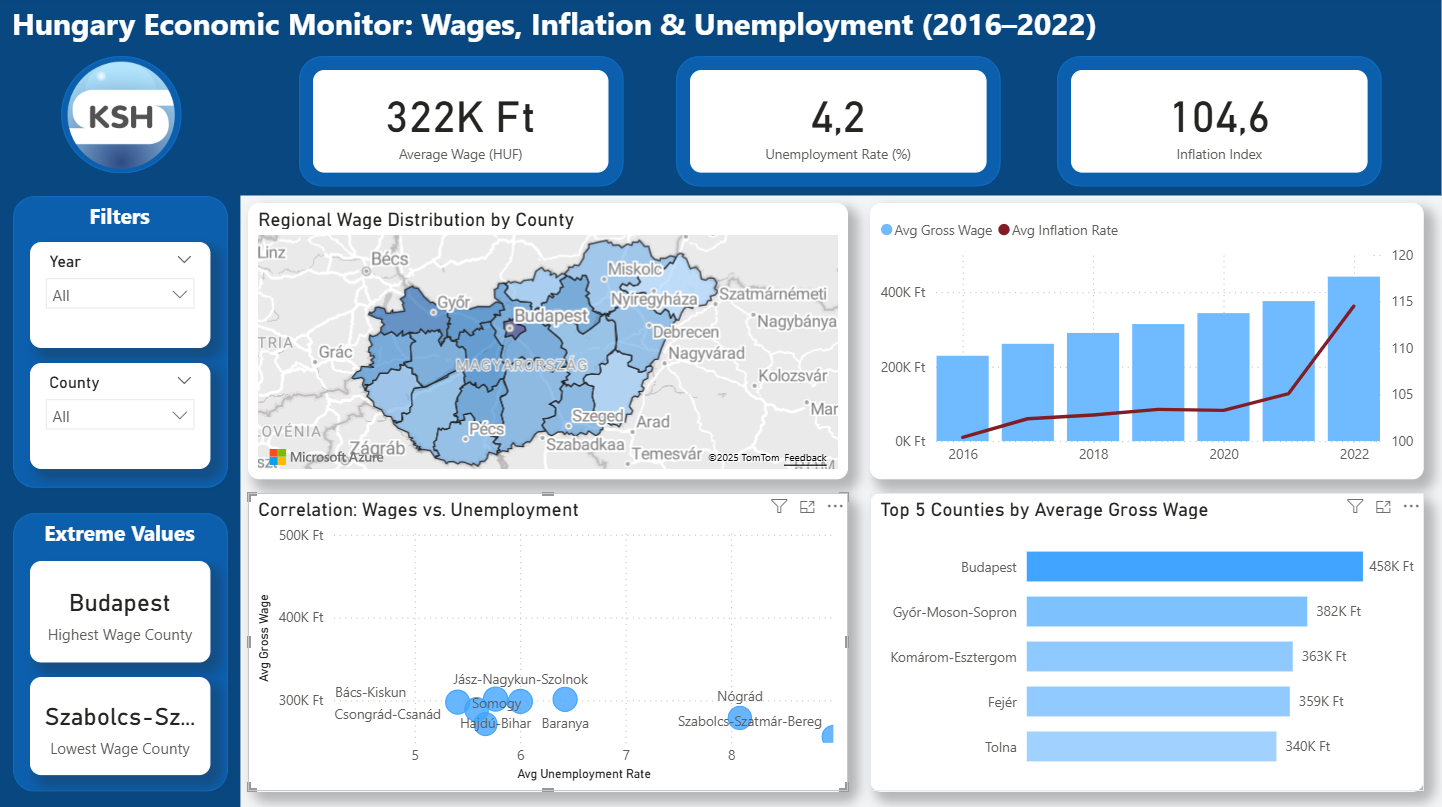

This screenshot's page, from the dashboard's own definition file:
{"tool":"powerbi","page":{"name":"Economic Monitor","canvas":[1280,720],"ordinal":0},"visuals":[{"type":"shape","box":[0,148.8,215,570.9],"z":0},{"type":"shape","box":[0,0,1280,176],"z":1000},{"type":"textbox","box":[6.8,0,1029.1,47.7],"z":2000},{"type":"shape","box":[13.6,176,190.6,258.7],"z":3000},{"type":"slicer","fields":{"Values":["Dim_Year.Year"]},"box":[28.2,216.9,159.5,94.3],"z":4000},{"type":"shape","box":[266.5,52.5,287.9,115.7],"z":5000},{"type":"card","fields":{"Values":["Wage.Avg Gross Wage"]},"box":[279.1,65.2,261.6,91.4],"z":6000},{"type":"shape","box":[601.1,52.5,287.9,115.7],"z":7000},{"type":"card","fields":{"Values":["Unemployment.Avg Unemployment Rate"]},"box":[613.7,65.2,262.6,91.4],"z":8000},{"type":"shape","box":[938.6,52.5,287.9,115.7],"z":9000},{"type":"card","fields":{"Values":["Inflation.Avg Inflation Rate"]},"box":[951.2,65.2,262.6,91.4],"z":10000},{"type":"slicer","fields":{"Values":["Dim_County.County"]},"box":[28.2,324.9,159.5,94.3],"z":11000},{"type":"azureMap","title":"Regional Wage Distribution by County","fields":{"Category":["Dim_County.County"]},"box":[221.8,182.9,532,245.1],"z":12000},{"type":"lineClusteredColumnComboChart","title":"Wage Growth vs. Consumer Price Index Trends","fields":{"Y":["Wage.Avg Gross Wage"],"Y2":["Inflation.Avg Inflation Rate"],"Category":["Inflation.Year"]},"box":[773.3,182.9,491.2,245.1],"z":13000},{"type":"scatterChart","title":"Correlation: Wages vs. Unemployment","fields":{"X":["Unemployment.Avg Unemployment Rate"],"Y":["Wage.Avg Gross Wage"],"Category":["Dim_County.County"],"Size":["Wage.Avg Gross Wage"]},"box":[221.8,439.6,532,264.6],"z":14000},{"type":"clusteredBarChart","title":"Top 5 Counties by Average Gross Wage","fields":{"Category":["Dim_County.County"],"Y":["Wage.Avg Gross Wage"]},"box":[773.3,439.6,491.2,264.6],"z":15000},{"type":"shape","box":[13.6,457.1,190.6,247.1],"z":16000},{"type":"card","fields":{"Values":["Dim_County.Highest Wage County"]},"box":[28.2,499.9,159.5,90.5],"z":17000},{"type":"card","fields":{"Values":["Dim_County.Lowest Wage County"]},"box":[28.2,603,159.5,86.6],"z":18000},{"type":"textbox","box":[29.2,457.1,156.6,35],"z":19000},{"type":"textbox","box":[72.9,176,70,35],"z":20000},{"type":"shape","box":[55.4,52.5,107,104.1],"z":21000},{"type":"image","box":[17.5,52.5,182.9,105],"z":22000}]}

Visuals, with their boxes in screenshot pixels (x1, y1, x2, y2), scaled from the page's 1280x720 canvas onto the 1442x807 screenshot:
shape: [0,167,242,806]
shape: [0,0,1441,197]
textbox: [8,0,1167,53]
shape: [15,197,230,487]
slicer - Dim_Year.Year: [32,243,211,349]
shape: [300,59,625,189]
card - Wage.Avg Gross Wage: [314,73,609,176]
shape: [677,59,1002,189]
card - Unemployment.Avg Unemployment Rate: [691,73,987,176]
shape: [1057,59,1382,189]
card - Inflation.Avg Inflation Rate: [1072,73,1367,176]
slicer - Dim_County.County: [32,364,211,470]
"Regional Wage Distribution by County" azureMap: [250,205,849,480]
"Wage Growth vs. Consumer Price Index Trends" lineClusteredColumnComboChart: [871,205,1425,480]
"Correlation: Wages vs. Unemployment" scatterChart: [250,493,849,789]
"Top 5 Counties by Average Gross Wage" clusteredBarChart: [871,493,1425,789]
shape: [15,512,230,789]
card - Dim_County.Highest Wage County: [32,560,211,662]
card - Dim_County.Lowest Wage County: [32,676,211,773]
textbox: [33,512,209,552]
textbox: [82,197,161,236]
shape: [62,59,183,176]
image: [20,59,226,177]
